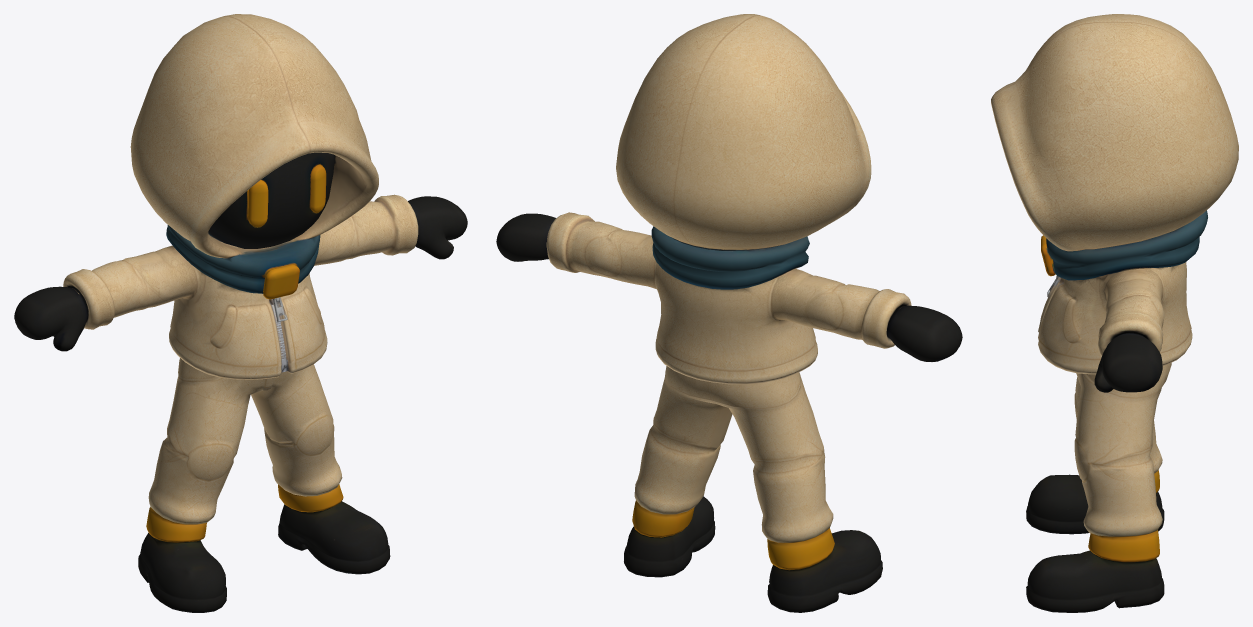
The model's file is hero-proportion-model.glb.
The picture shows the model from 3 angles, left to right: view 1: azimuth 30°, elevation 25°; view 2: azimuth 150°, elevation 25°; view 3: azimuth 270°, elevation 25°; orthographic projection. The views are drawn at different scales.
Parts seen in each view (by area): view 1: tripo_2a663c8a_0647_4d18_b8b0_e80b4bea8544; view 2: tripo_2a663c8a_0647_4d18_b8b0_e80b4bea8544; view 3: tripo_2a663c8a_0647_4d18_b8b0_e80b4bea8544.
Part boxes in pixels (<box>): tripo_2a663c8a_0647_4d18_b8b0_e80b4bea8544: <box>14,14,467,612</box>; tripo_2a663c8a_0647_4d18_b8b0_e80b4bea8544: <box>496,14,962,612</box>; tripo_2a663c8a_0647_4d18_b8b0_e80b4bea8544: <box>991,14,1238,612</box>.
Bounding box in the file's own units: 0.8647 × 0.9995 × 0.4175.
1 material, 1 textured.
